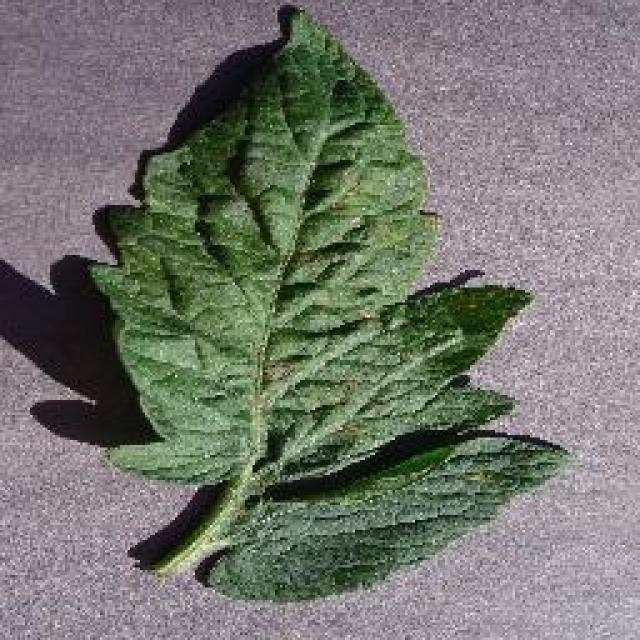Tomato Septoria spot leaf: (90, 1, 568, 609)
